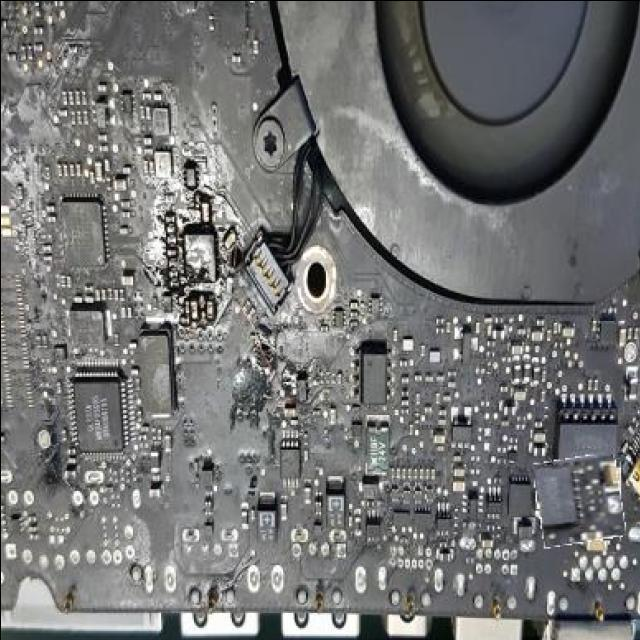Burn: (533, 454, 622, 544)
